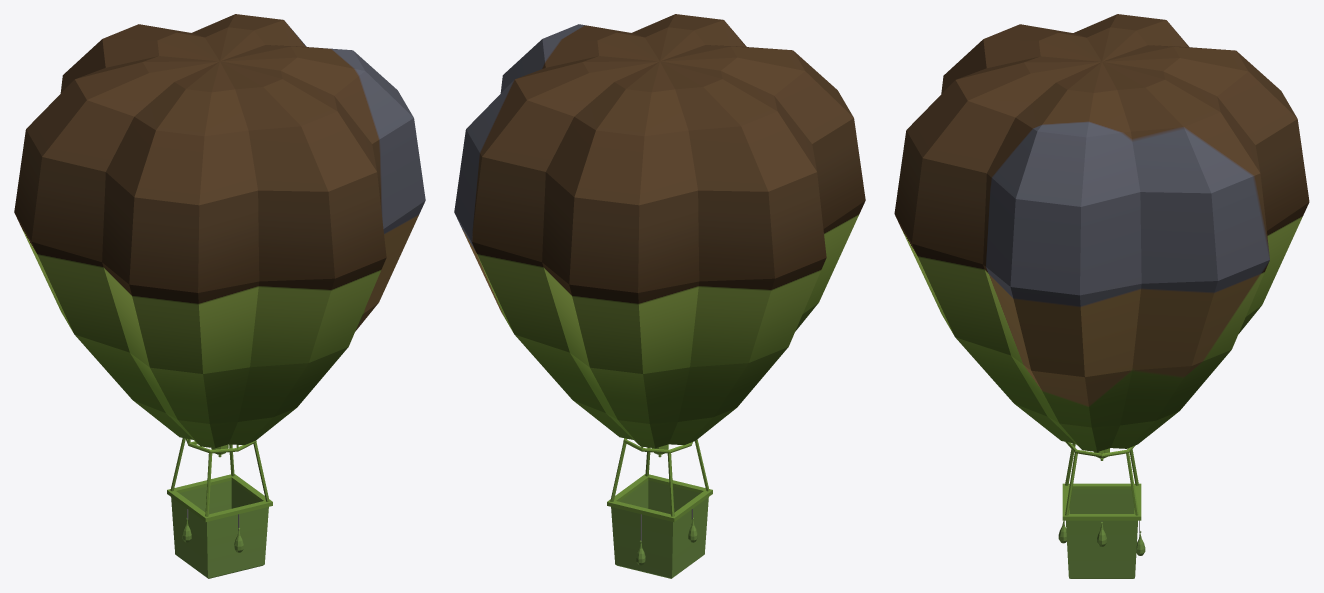
File: AirBalloon_02.fbx
3 renders of one model, left to right at view 1: azimuth 30°, elevation 25°; view 2: azimuth 150°, elevation 25°; view 3: azimuth 270°, elevation 25°, orthographic.
Visible parts, largest first — view 1: AirBalloon_02; view 2: AirBalloon_02; view 3: AirBalloon_02.
Boxes of the visible parts, bbox=[...] form: AirBalloon_02: bbox=[14, 14, 425, 578]; AirBalloon_02: bbox=[454, 14, 865, 578]; AirBalloon_02: bbox=[894, 14, 1309, 578].
Size of the model in its own units: 6.79 by 9.15 by 6.81.
